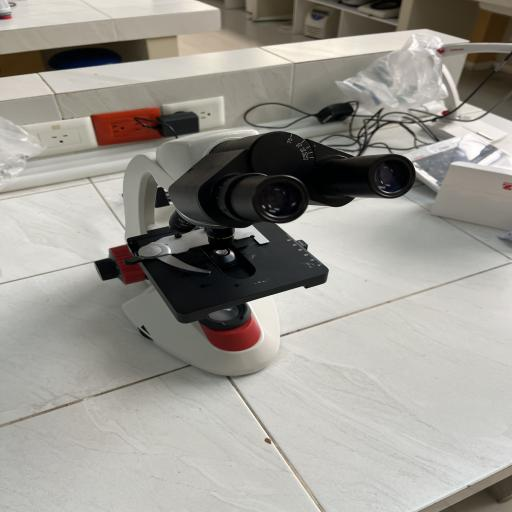Microscopio_Binocular: (79, 115, 429, 385)
